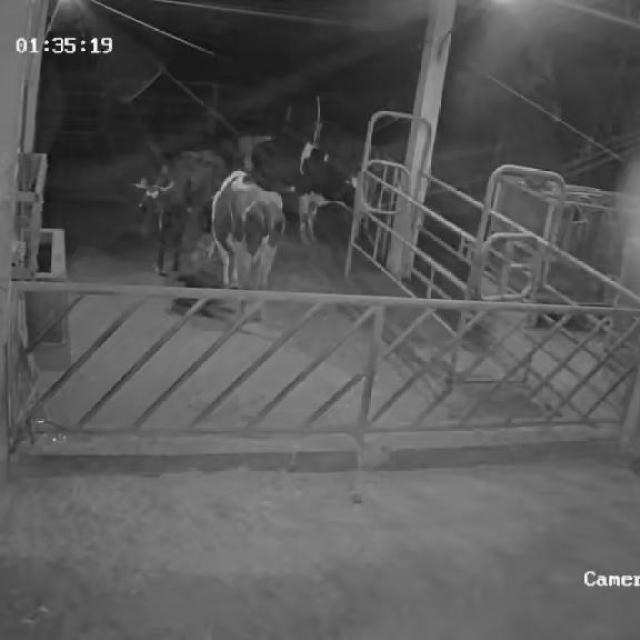standing: (229, 129, 373, 255), (130, 142, 226, 280), (214, 165, 284, 324)
